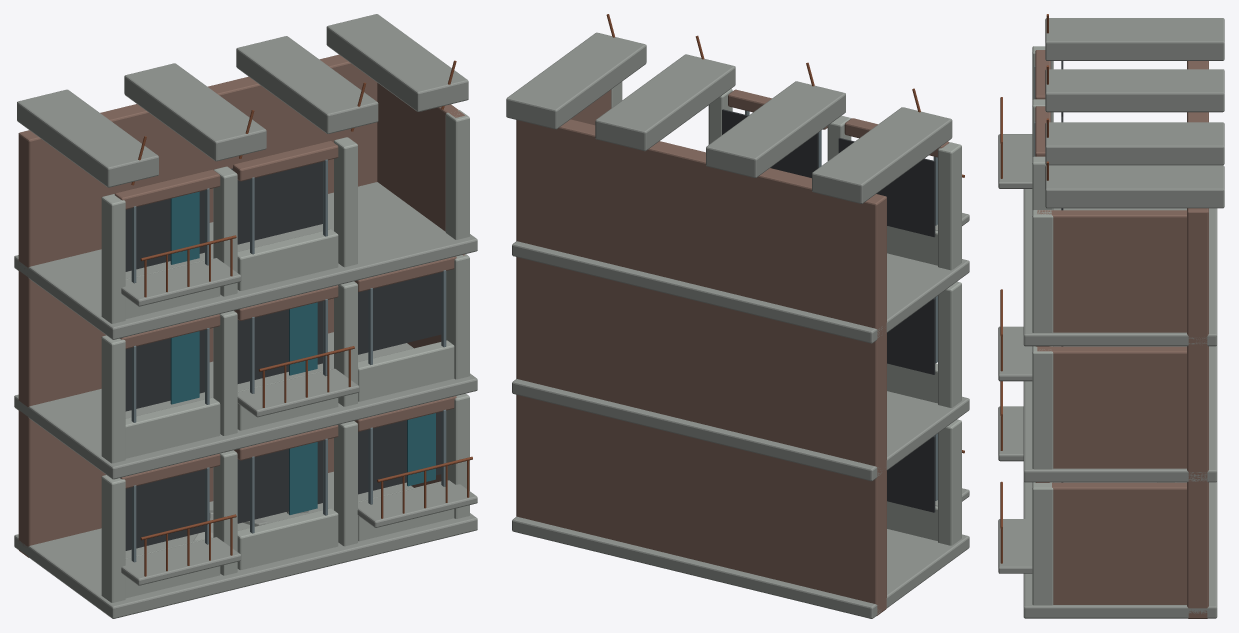
The model's file is corner-ruin.glb.
3 renders of one model, left to right at view 1: azimuth 30°, elevation 25°; view 2: azimuth 150°, elevation 25°; view 3: azimuth 270°, elevation 25°, orthographic. The views are drawn at different scales.
Parts seen in each view (by area): view 1: corner-ruin.001; view 2: corner-ruin.001; view 3: corner-ruin.001.
Part boxes in pixels (<box>): corner-ruin.001: <box>14,14,477,618</box>; corner-ruin.001: <box>506,14,969,618</box>; corner-ruin.001: <box>998,14,1224,618</box>.
Size of the model in its own units: 8.55 by 10.4 by 4.67.
